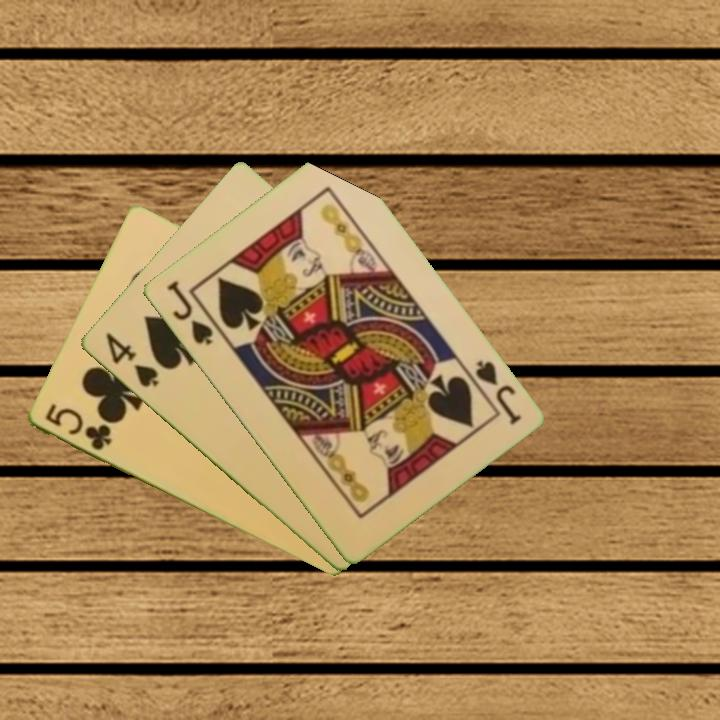4s: (101, 329, 162, 391)
5c: (41, 400, 114, 454)
Js: (162, 277, 216, 349), (471, 356, 524, 428)
